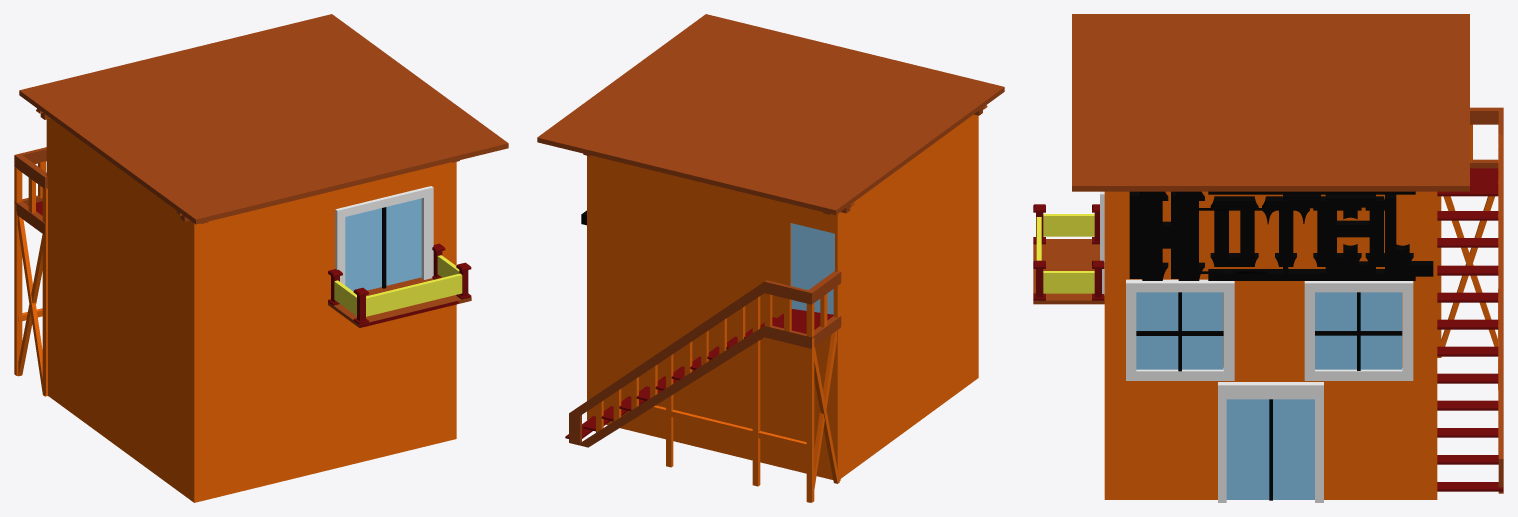
Rendered from Hotelv2.fbx.
3 views of the same model, side by side, from view 1: azimuth 30°, elevation 25°; view 2: azimuth 150°, elevation 25°; view 3: azimuth 270°, elevation 25° (orthographic). The views are drawn at different scales.
Visible parts, largest first — view 1: Cube, Cube.018, Cube.006, Cube.055, Cube.007, Cube.026, Cube.021, Cube.040; view 2: Cube, Cube.018, Cube.055, Cube.040, Cube.059, Cube.014; view 3: Cube.018, Cube, Text, Cube.014, Cube.015, Cube.003, Hotel text, Cube.005, Cube.013, Cube.009, Cube.040, Cube.021 (+3 smaller).
Boxes of the visible parts, x1,y1,x2,y2 form: Cube: [46, 118, 456, 502]; Cube.018: [19, 14, 508, 224]; Cube.006: [345, 198, 421, 291]; Cube.055: [14, 161, 47, 396]; Cube.007: [335, 186, 433, 285]; Cube.026: [366, 273, 462, 316]; Cube.021: [328, 277, 471, 327]; Cube.040: [14, 147, 47, 235]; Cube: [587, 114, 978, 479]; Cube.018: [537, 14, 1004, 214]; Cube.055: [596, 284, 840, 502]; Cube.040: [569, 271, 841, 447]; Cube.059: [791, 223, 834, 314]; Cube.014: [565, 309, 833, 438]; Cube.018: [1072, 14, 1469, 191]; Cube: [1104, 191, 1437, 499]; Text: [1136, 191, 1415, 280]; Cube.014: [1437, 168, 1503, 491]; Cube.015: [1315, 292, 1401, 369]; Cube.003: [1136, 292, 1223, 369]; Hotel text: [1129, 191, 1433, 278]; Cube.005: [1126, 279, 1234, 380]; Cube.013: [1304, 281, 1413, 380]; Cube.009: [1218, 382, 1323, 502]; Cube.040: [1470, 107, 1503, 493]; Cube.021: [1033, 239, 1104, 304].
Bounding box in the file's own units: 2192 × 1998 × 2537.
Materials: 11 (11 with a texture image).
